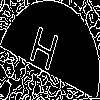H: (25, 24, 61, 81)
